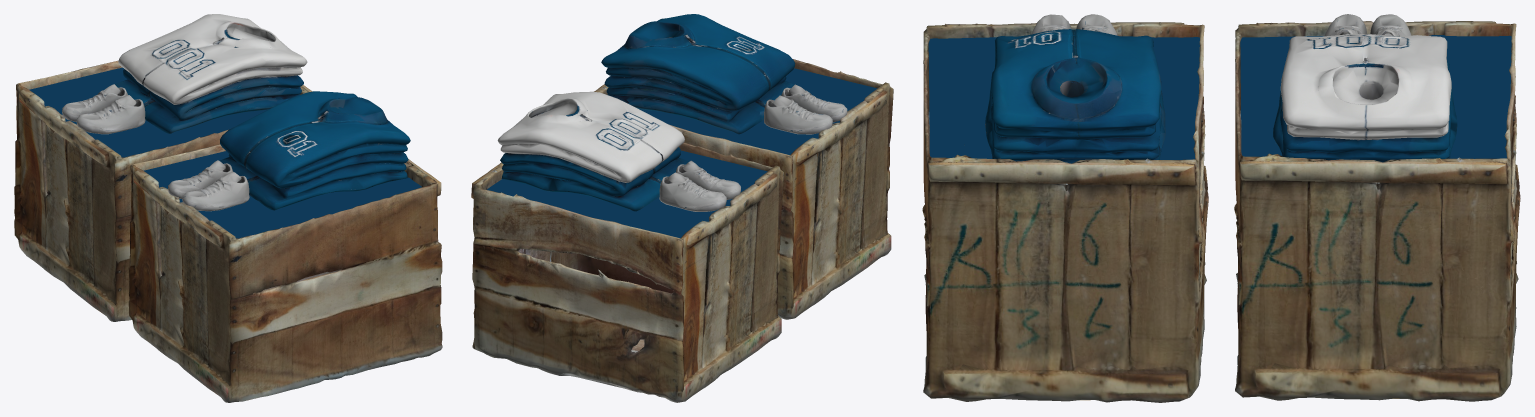
Rendered from ropa_box.glb.
3 views of the same model, side by side, from view 1: azimuth 30°, elevation 25°; view 2: azimuth 150°, elevation 25°; view 3: azimuth 270°, elevation 25° (orthographic). The views are drawn at different scales.
Visible parts, largest first — view 1: Wooden Crate.002, Mesh_0, Wooden Crate, Plane.001, Plane; view 2: Wooden Crate, Mesh_0, Wooden Crate.002, Plane, Plane.001; view 3: Wooden Crate.002, Wooden Crate, Mesh_0, Plane, Plane.001.
Part boxes in pixels (x1,y1,x2,y2): Wooden Crate.002: [128, 144, 442, 402]; Mesh_0: [62, 14, 410, 211]; Wooden Crate: [14, 60, 312, 321]; Plane.001: [144, 151, 421, 238]; Plane: [29, 67, 268, 157]; Wooden Crate: [471, 142, 783, 402]; Mesh_0: [497, 14, 847, 211]; Wooden Crate.002: [594, 59, 893, 319]; Plane: [487, 150, 767, 238]; Plane.001: [638, 68, 876, 154]; Wooden Crate.002: [922, 22, 1208, 402]; Wooden Crate: [1234, 21, 1520, 401]; Mesh_0: [985, 14, 1457, 163]; Plane: [1240, 35, 1511, 158]; Plane.001: [928, 36, 1199, 159].
Size of the model in its own units: 1.23 by 1.15 by 2.04.
3 materials, 2 textured.
